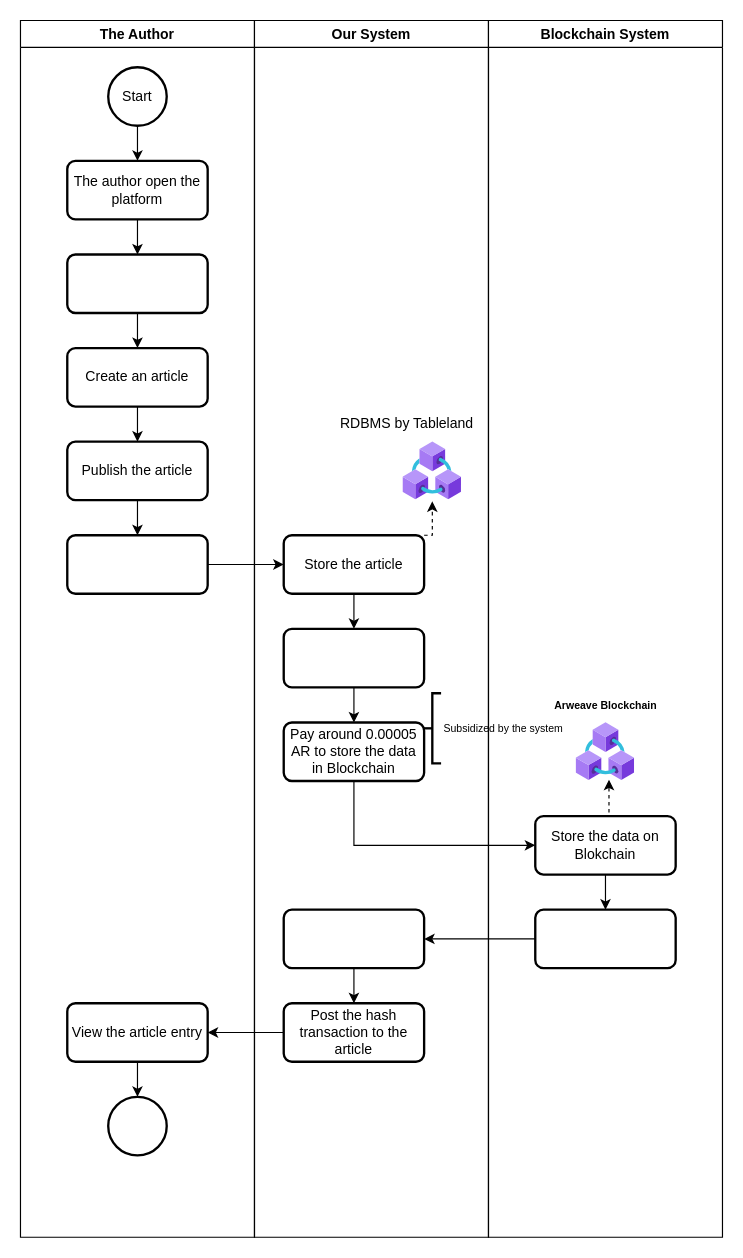
Some shapes in this 743 by 1258 pixel diagram are drawn without their labels. The shapes that lost their labels are listed below. From the top down, each one's box as (x1, y1, x2, y2) in pixels, then its label:
(66, 253, 208, 314): Login with Connect to Wallet (Metamask)
(66, 534, 208, 594): Sign the article
(282, 627, 425, 688): Generate the article entry (Json Data)
(282, 908, 425, 969): Retrieve the hash transaction
(534, 908, 676, 969): Generate a hash transaction
(106, 1095, 167, 1156): End
